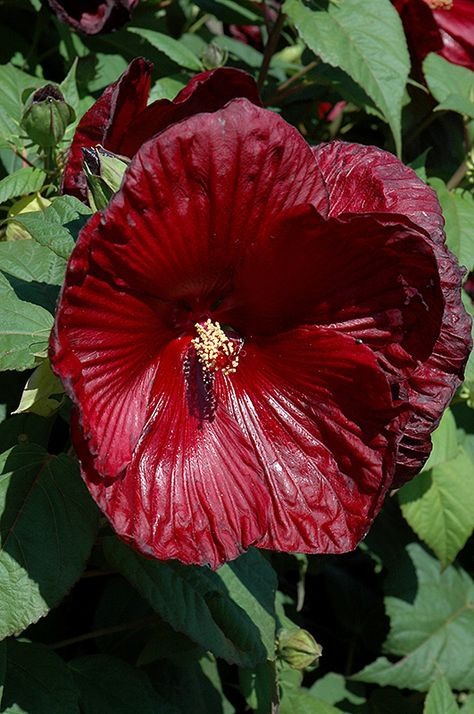Hibiscus: (47, 119, 452, 571), (90, 35, 271, 144), (19, 75, 90, 187)
